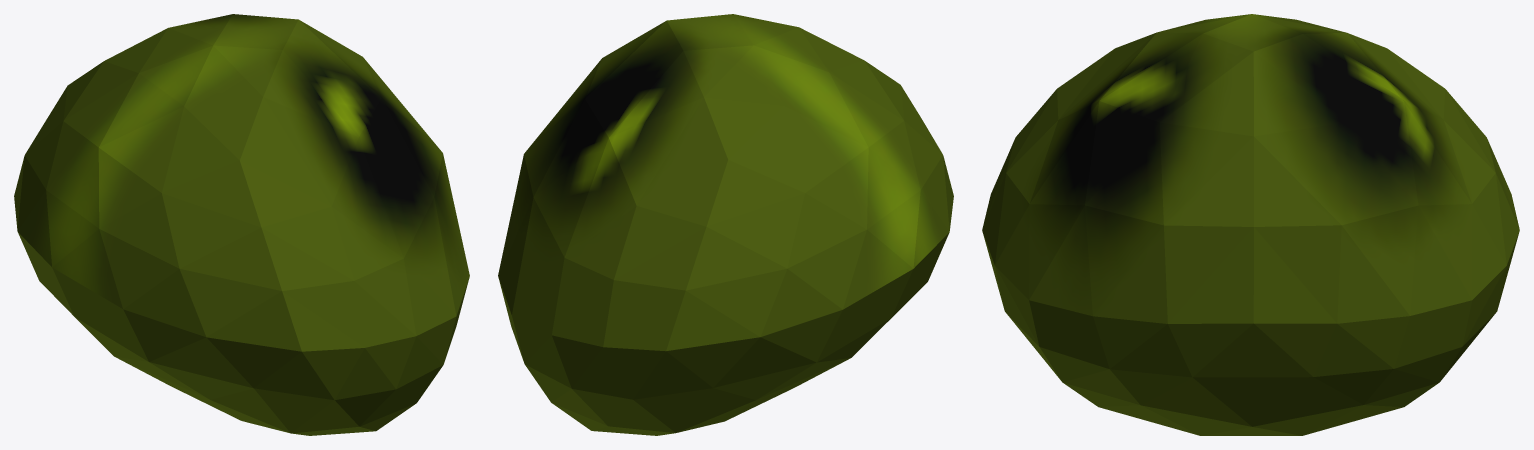
File: bee2.obj
3 views of the same model, side by side, from view 1: azimuth 30°, elevation 25°; view 2: azimuth 150°, elevation 25°; view 3: azimuth 270°, elevation 25° (orthographic).
Parts seen in each view (by area): view 1: ColobotMesh_1_ColobotMesh_; view 2: ColobotMesh_1_ColobotMesh_; view 3: ColobotMesh_1_ColobotMesh_.
Part boxes in pixels (x1,y1,x2,y2): ColobotMesh_1_ColobotMesh_: (14, 14, 469, 435); ColobotMesh_1_ColobotMesh_: (498, 14, 953, 435); ColobotMesh_1_ColobotMesh_: (982, 14, 1519, 435).
Bounding box in the file's own units: 1.94 × 1.89 × 2.4.
